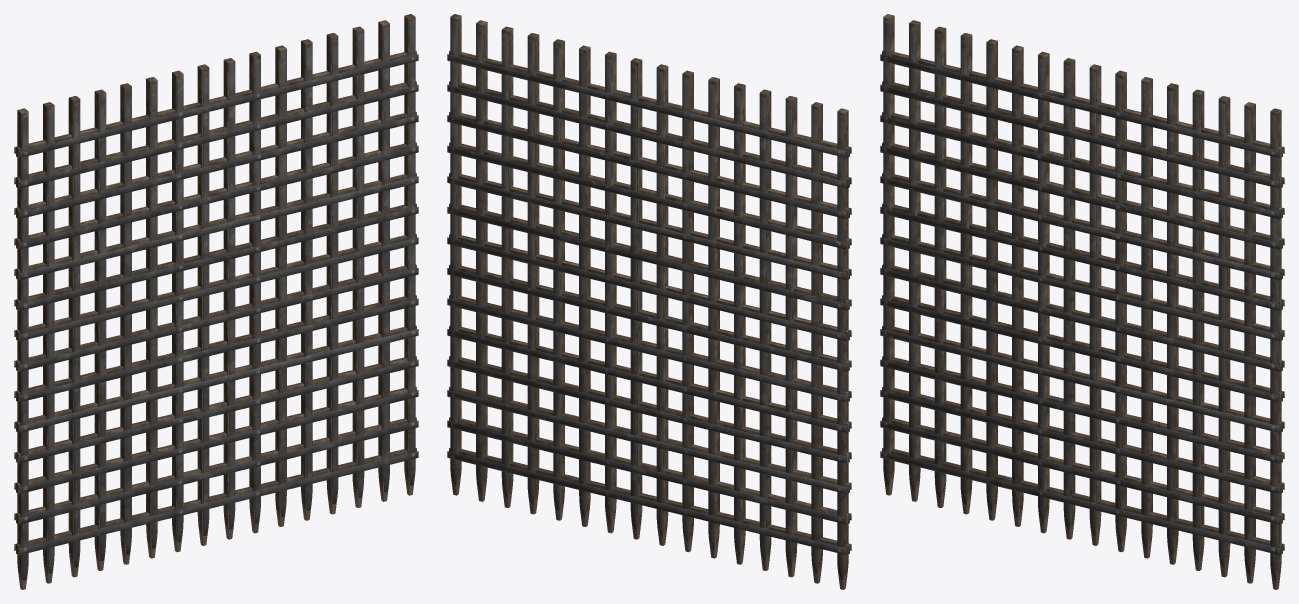
Rendered from Bars1.fbx.
The picture shows the model from 3 angles, left to right: view 1: azimuth 30°, elevation 25°; view 2: azimuth 150°, elevation 25°; view 3: azimuth 330°, elevation 25°; orthographic projection.
Visible parts, largest first — view 1: Bars1; view 2: Bars1; view 3: Bars1.
Part boxes in pixels (bbox=[...]): Bars1: bbox=[14, 14, 418, 589]; Bars1: bbox=[447, 14, 851, 589]; Bars1: bbox=[880, 14, 1284, 589].
Bounding box in the file's own units: 5.88 × 6.74 × 0.1558.
